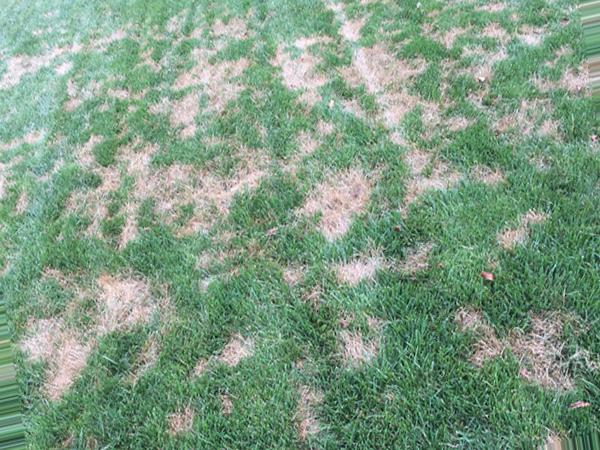patch: (27, 326, 98, 390), (149, 174, 226, 209), (355, 57, 405, 110), (171, 79, 240, 114), (306, 177, 360, 217), (330, 330, 381, 363), (287, 66, 324, 87)
